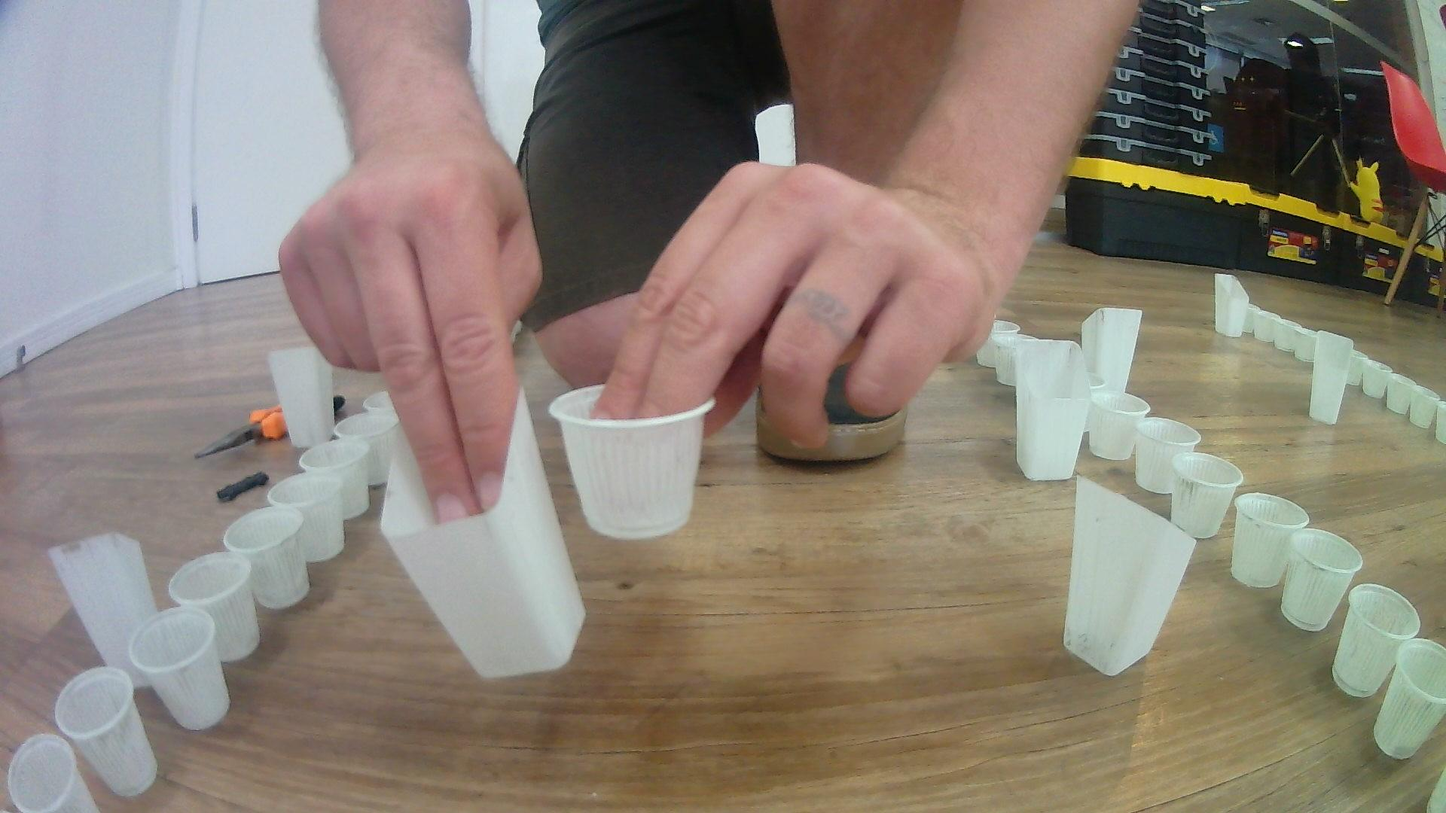erva_daninha: (379, 383, 587, 680), (1063, 473, 1194, 676), (47, 530, 161, 688), (1014, 340, 1092, 481), (266, 345, 338, 450), (1078, 307, 1142, 395), (1309, 328, 1354, 425), (1213, 274, 1249, 337)
planta: (545, 382, 718, 541), (52, 665, 160, 796), (125, 605, 232, 733), (1329, 583, 1420, 698), (169, 554, 264, 663), (221, 504, 311, 610), (1279, 527, 1363, 632), (1374, 638, 1446, 760), (5, 733, 102, 813), (1230, 492, 1309, 589), (267, 471, 346, 563), (1169, 452, 1244, 540), (300, 437, 373, 521), (1130, 417, 1202, 495), (333, 414, 400, 486), (1088, 394, 1150, 461), (975, 319, 1022, 368), (993, 333, 1031, 386), (1408, 385, 1441, 430), (1384, 373, 1417, 415), (1362, 359, 1393, 398), (1244, 305, 1276, 342), (1271, 318, 1302, 352), (1088, 372, 1123, 401), (361, 390, 398, 417), (1344, 349, 1370, 387), (1294, 327, 1320, 361), (1435, 400, 1446, 444)
